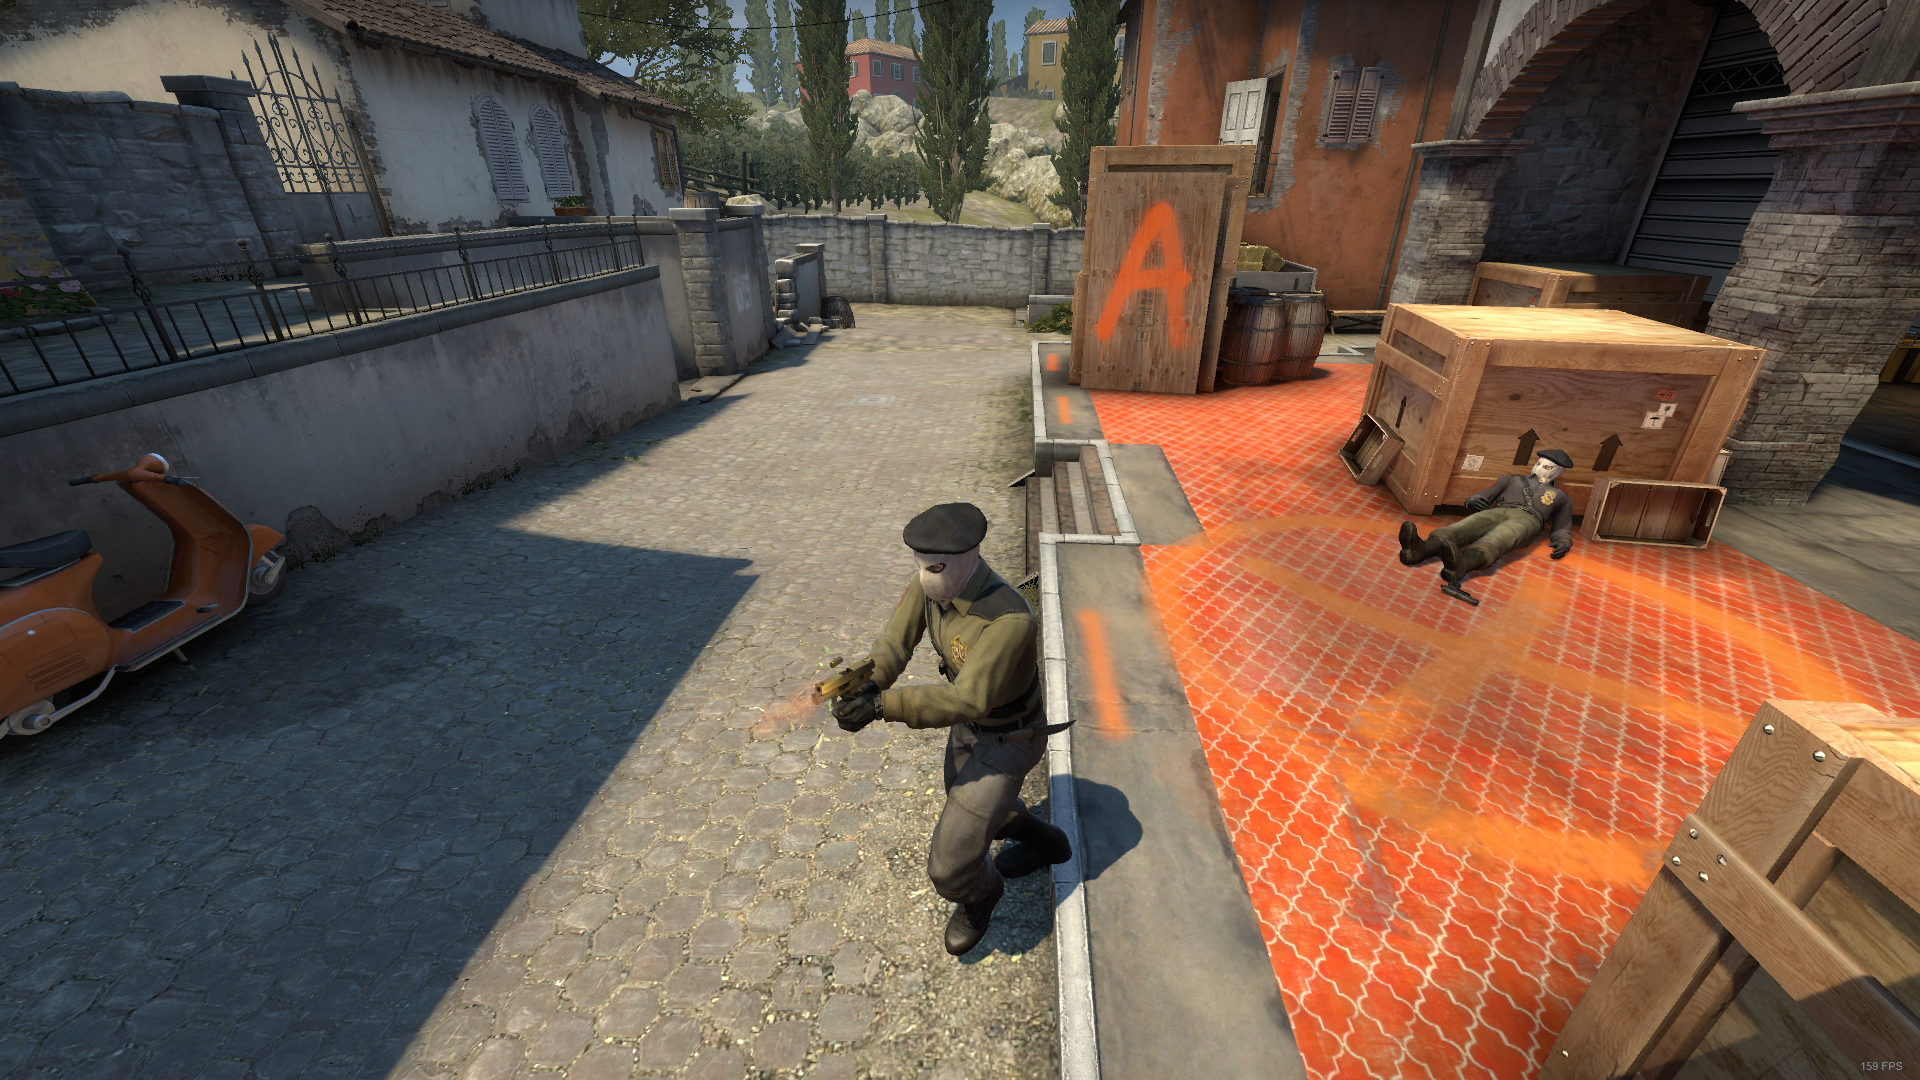t: (836, 504, 1073, 955), (1400, 447, 1575, 588)
